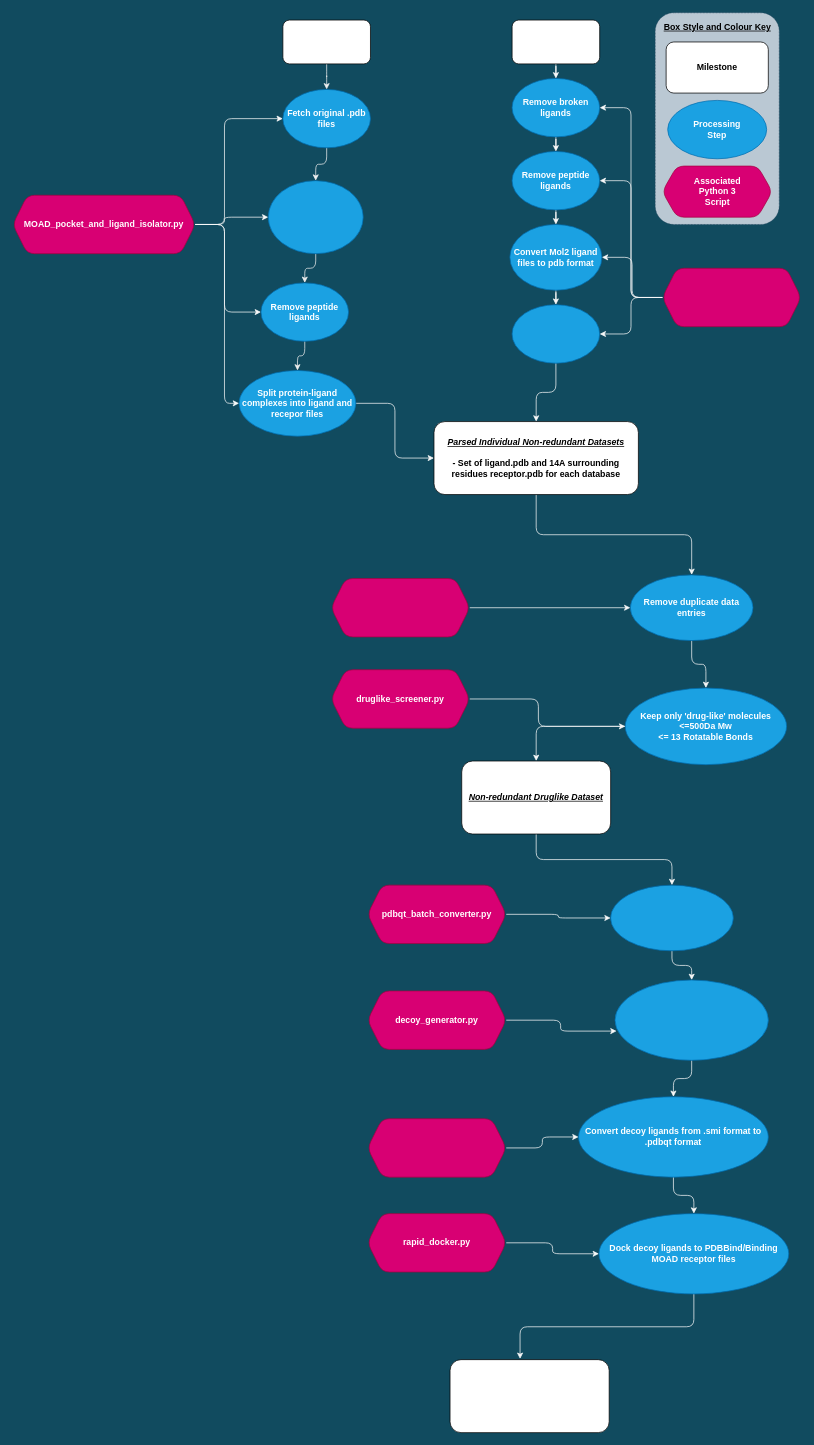
Image size: 814x1445. Some labels were removed from this diagram. Here are the shapes that lost their labels. From the top down, the centre of each, then its label:
(x=326, y=41): Binding MOAD
(x=555, y=41): PDBBind
(x=315, y=217): Remove broken and complex ligands
(x=731, y=297): PDB_pocket_isolator.py
(x=555, y=333): Create receptor.pdb files
(x=400, y=607): Lab book code block
(x=671, y=917): Convert to .pdbqt files with Autodock
(x=691, y=1019): Query LIT-PCBA for confirmed inactives - if none present, generate with DeepCoy
(x=436, y=1147): smile_to_pdbqt_converter.py
(x=529, y=1396): Decoyed Non-redundant PDBQT Dataset
